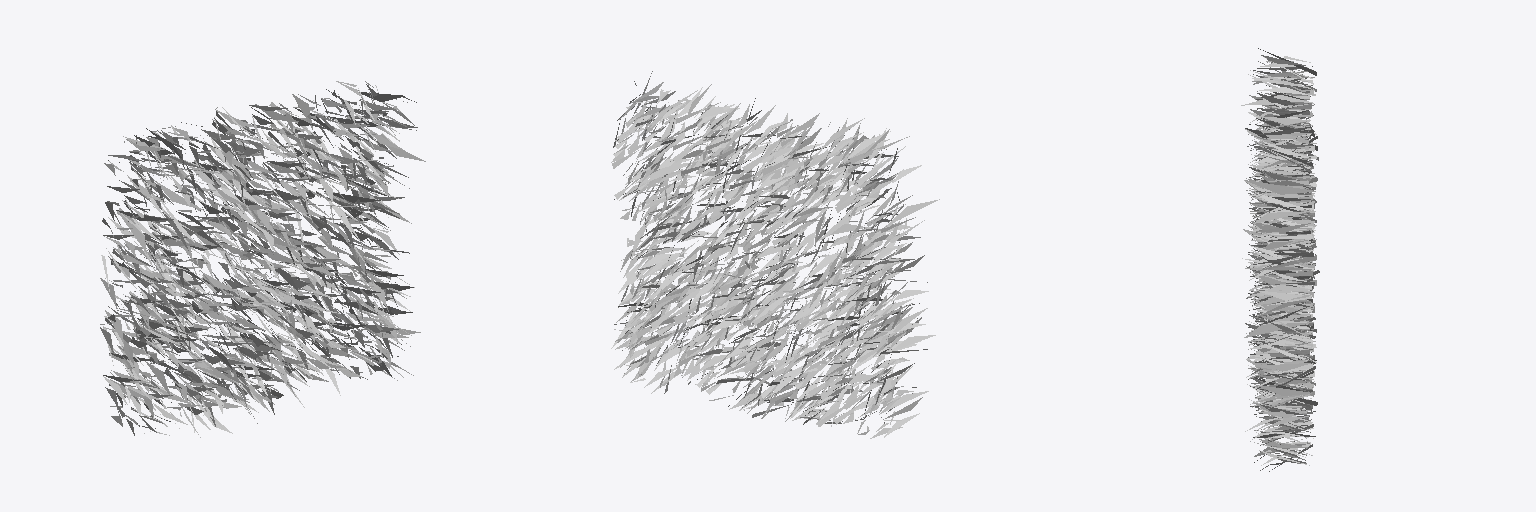
Rendered from grass.obj.
3 renders of one model, left to right at view 1: azimuth 30°, elevation 25°; view 2: azimuth 150°, elevation 25°; view 3: azimuth 270°, elevation 25°, orthographic.
Visible parts, largest first — view 1: GrassLong.989_Cube.000; view 2: GrassLong.989_Cube.000; view 3: GrassLong.989_Cube.000.
Part boxes in pixels (bbox=[...]): GrassLong.989_Cube.000: bbox=[100, 81, 425, 437]; GrassLong.989_Cube.000: bbox=[611, 71, 939, 438]; GrassLong.989_Cube.000: bbox=[1241, 48, 1319, 471].
Bounding box in the file's own units: 6.13 × 5.95 × 1.34.